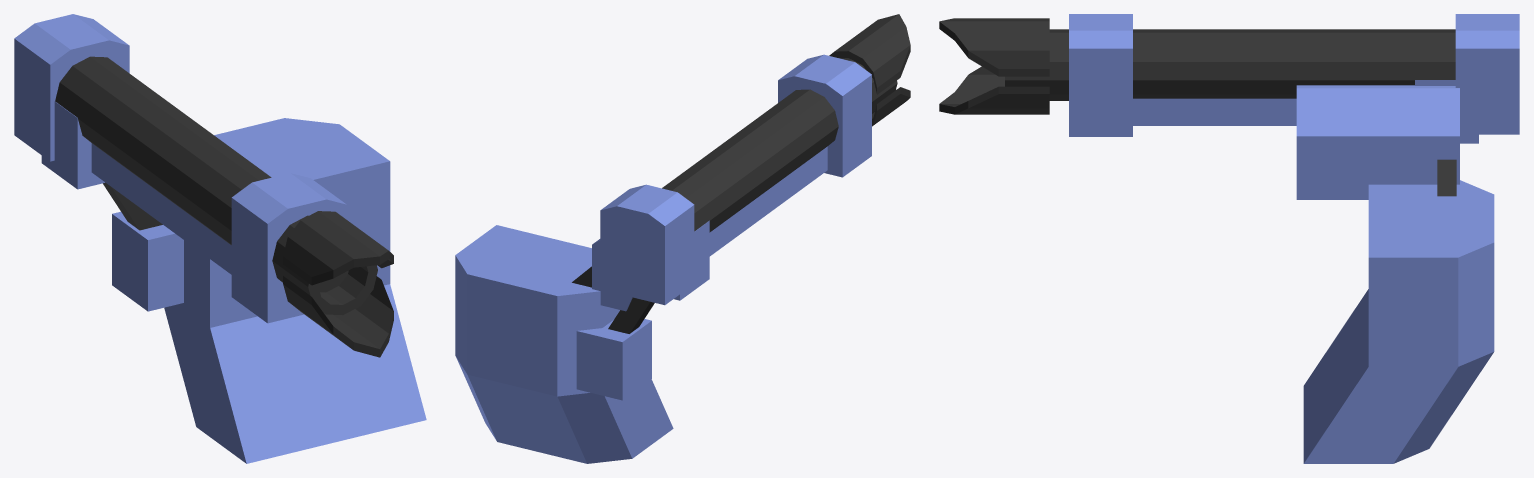
Rendered from RollerGL.glb.
The picture shows the model from 3 angles, left to right: view 1: azimuth 30°, elevation 25°; view 2: azimuth 150°, elevation 25°; view 3: azimuth 270°, elevation 25°; orthographic projection. The views are drawn at different scales.
Parts seen in each view (by area): view 1: ShoulderGL; view 2: ShoulderGL; view 3: ShoulderGL.
Boxes of the visible parts, box(x1,y1,x2,y2) form: ShoulderGL: box(14, 14, 426, 463); ShoulderGL: box(455, 14, 910, 463); ShoulderGL: box(939, 14, 1519, 463).
Size of the model in its own units: 1.92 by 2.36 by 3.73.
